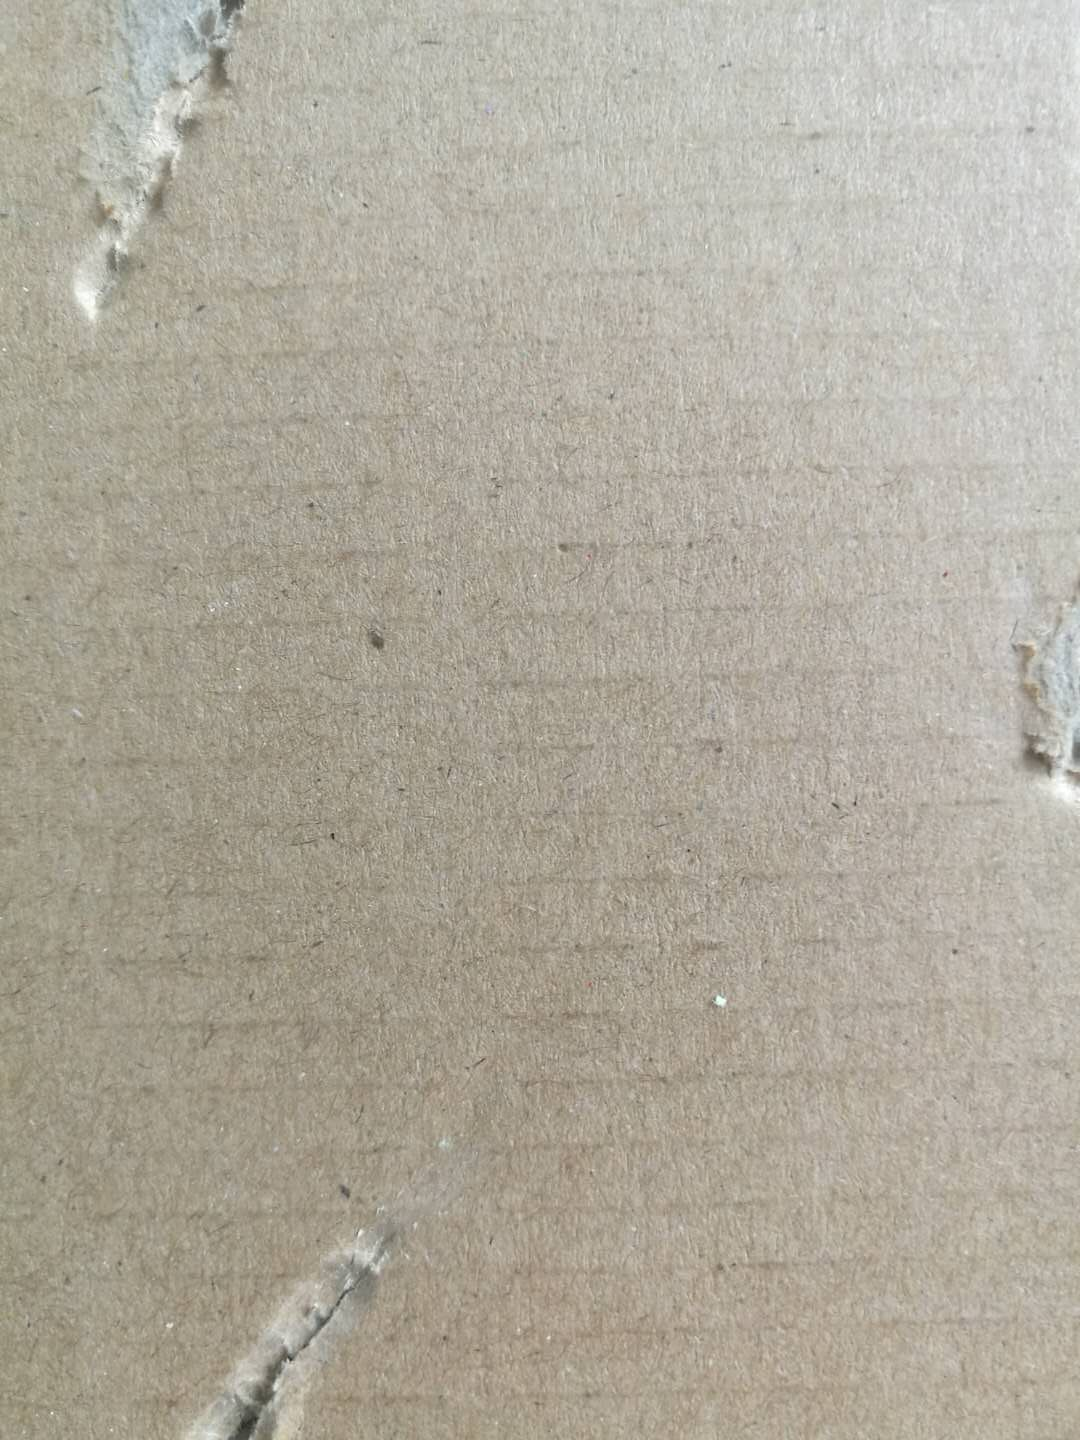defect: (42, 1, 265, 332), (157, 1204, 429, 1440), (999, 554, 1080, 799)
